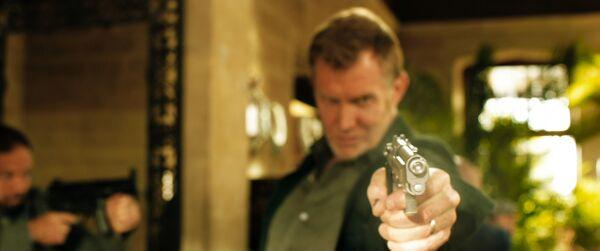Gun: (383, 133, 430, 216)
